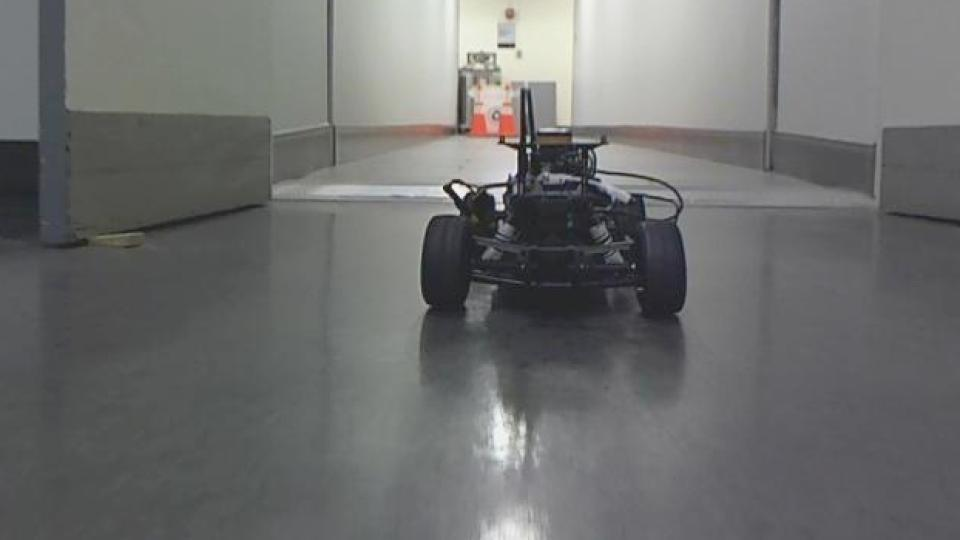car: (417, 83, 691, 321)
